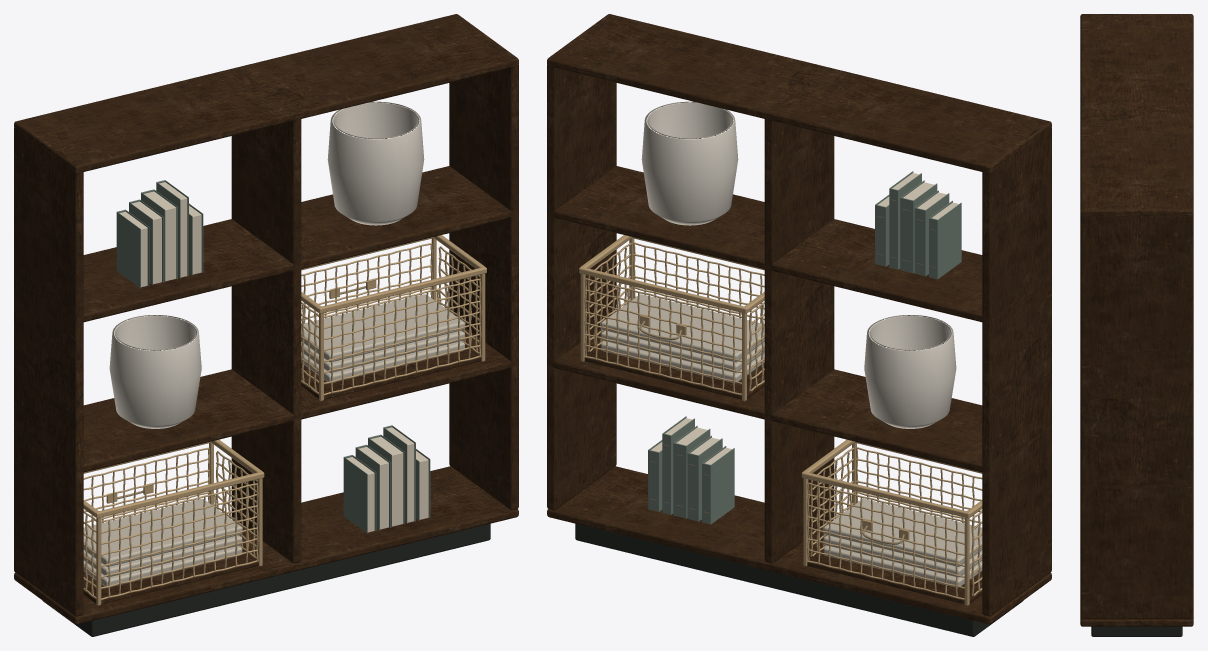
Rendered from storage2-cube-divider.glb.
3 views of the same model, side by side, from view 1: azimuth 30°, elevation 25°; view 2: azimuth 150°, elevation 25°; view 3: azimuth 270°, elevation 25° (orthographic). The views are drawn at different scales.
Parts seen in each view (by area): view 1: walnut_surfaces, cane_surfaces, ceramic_surfaces, linen_surfaces, binding_surfaces, paper_surfaces, dark_surfaces; view 2: walnut_surfaces, cane_surfaces, ceramic_surfaces, linen_surfaces, binding_surfaces, dark_surfaces, paper_surfaces; view 3: walnut_surfaces, dark_surfaces.
Boxes of the visible parts, x1=… form: walnut_surfaces: x1=14, y1=14, x2=518, y2=624; cane_surfaces: x1=83, y1=235, x2=486, y2=605; ceramic_surfaces: x1=109, y1=101, x2=424, y2=428; linen_surfaces: x1=83, y1=294, x2=464, y2=587; binding_surfaces: x1=116, y1=180, x2=430, y2=533; paper_surfaces: x1=119, y1=182, x2=428, y2=532; dark_surfaces: x1=42, y1=523, x2=490, y2=636; walnut_surfaces: x1=547, y1=14, x2=1051, y2=624; cane_surfaces: x1=579, y1=235, x2=982, y2=605; ceramic_surfaces: x1=641, y1=101, x2=956, y2=428; linen_surfaces: x1=601, y1=294, x2=982, y2=587; binding_surfaces: x1=648, y1=171, x2=961, y2=524; dark_surfaces: x1=575, y1=523, x2=1023, y2=636; paper_surfaces: x1=651, y1=173, x2=958, y2=464; walnut_surfaces: x1=1080, y1=14, x2=1193, y2=626; dark_surfaces: x1=1091, y1=626, x2=1182, y2=636.
Size of the model in its own units: 1.68 by 1.74 by 0.408.
8 materials, 1 textured.
